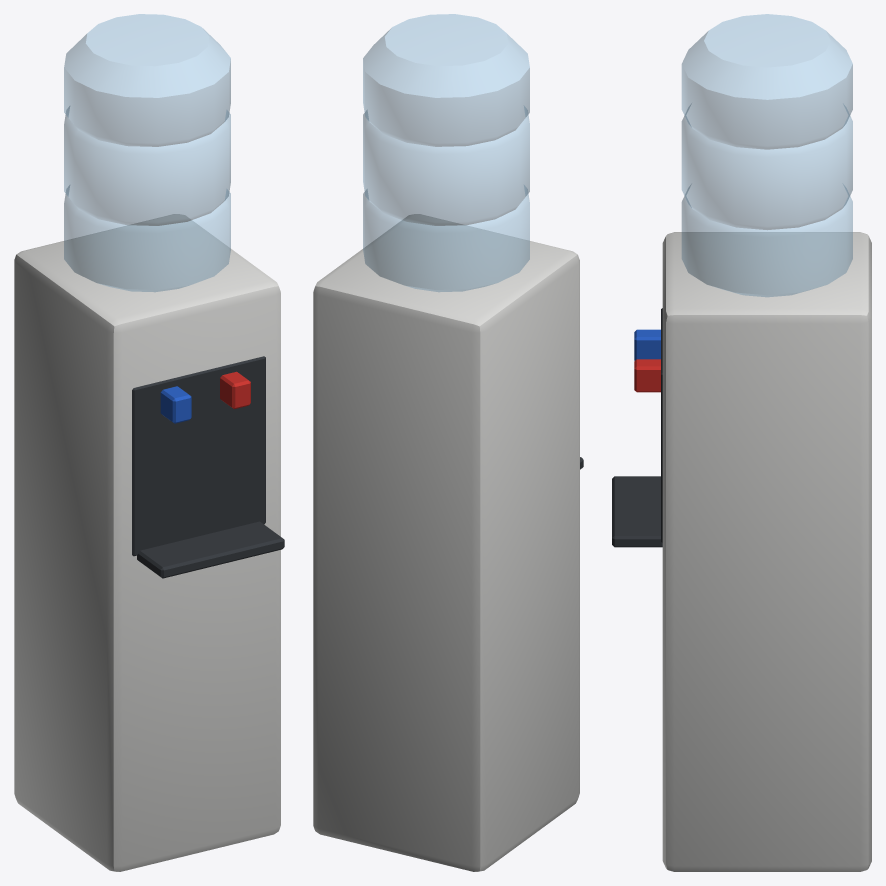
The model's file is water-dispenser.glb.
The picture shows the model from 3 angles, left to right: view 1: azimuth 30°, elevation 25°; view 2: azimuth 150°, elevation 25°; view 3: azimuth 270°, elevation 25°; orthographic projection.
Visible parts, largest first — view 1: water-dispenser; view 2: water-dispenser; view 3: water-dispenser.
Boxes of the visible parts, <box> form: water-dispenser: <box>14,14,284,871</box>; water-dispenser: <box>313,14,583,871</box>; water-dispenser: <box>612,14,871,871</box>.
Size of the model in its own units: 0.32 by 1.38 by 0.41.
